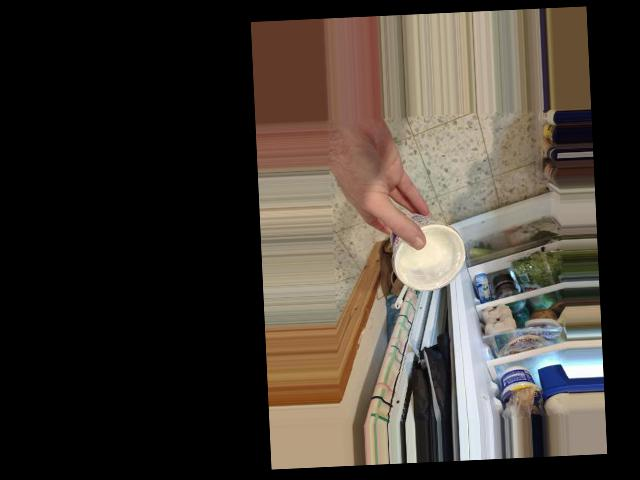cotage: (389, 209, 460, 297)
